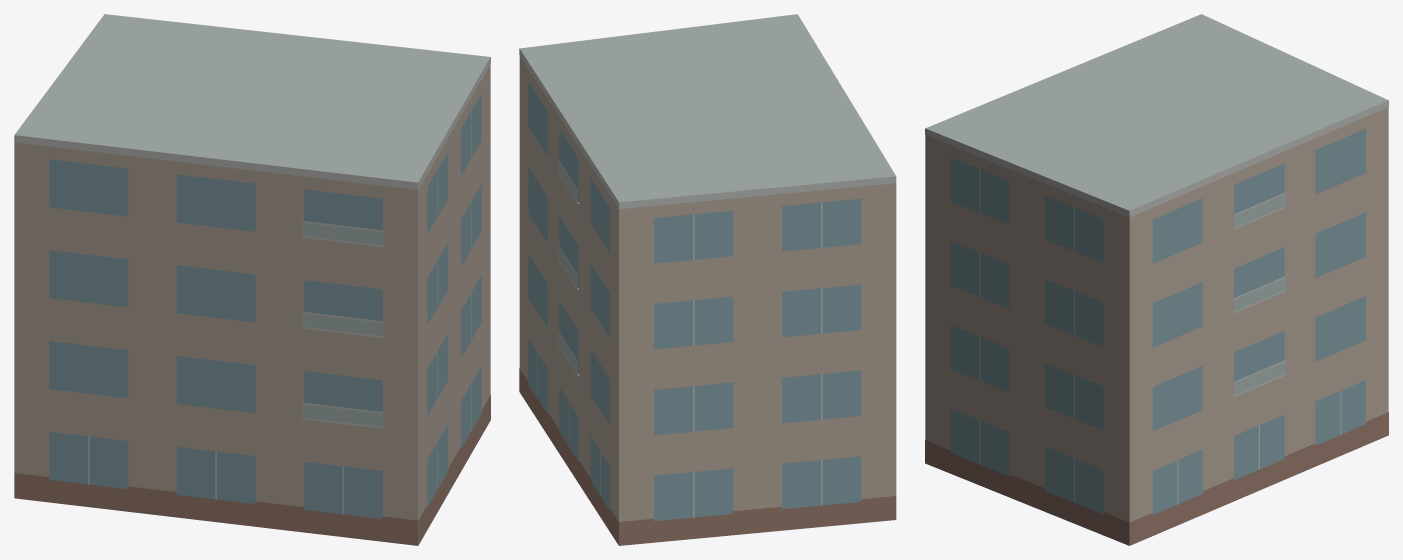
File: survey-upis-32497824.glb
The picture shows the model from 3 angles, left to right: view 1: azimuth 30°, elevation 25°; view 2: azimuth 150°, elevation 25°; view 3: azimuth 270°, elevation 25°; orthographic projection. The views are drawn at different scales.
Parts seen in each view (by area): view 1: survey-upis-32497824.tmp; view 2: survey-upis-32497824.tmp; view 3: survey-upis-32497824.tmp.
Part boxes in pixels (left/top/right/bottom): survey-upis-32497824.tmp: left=14, top=14, right=490, bottom=545; survey-upis-32497824.tmp: left=519, top=14, right=896, bottom=545; survey-upis-32497824.tmp: left=925, top=14, right=1388, bottom=545.
Bounding box in the file's own units: 15.38 × 12.2 × 15.3.
